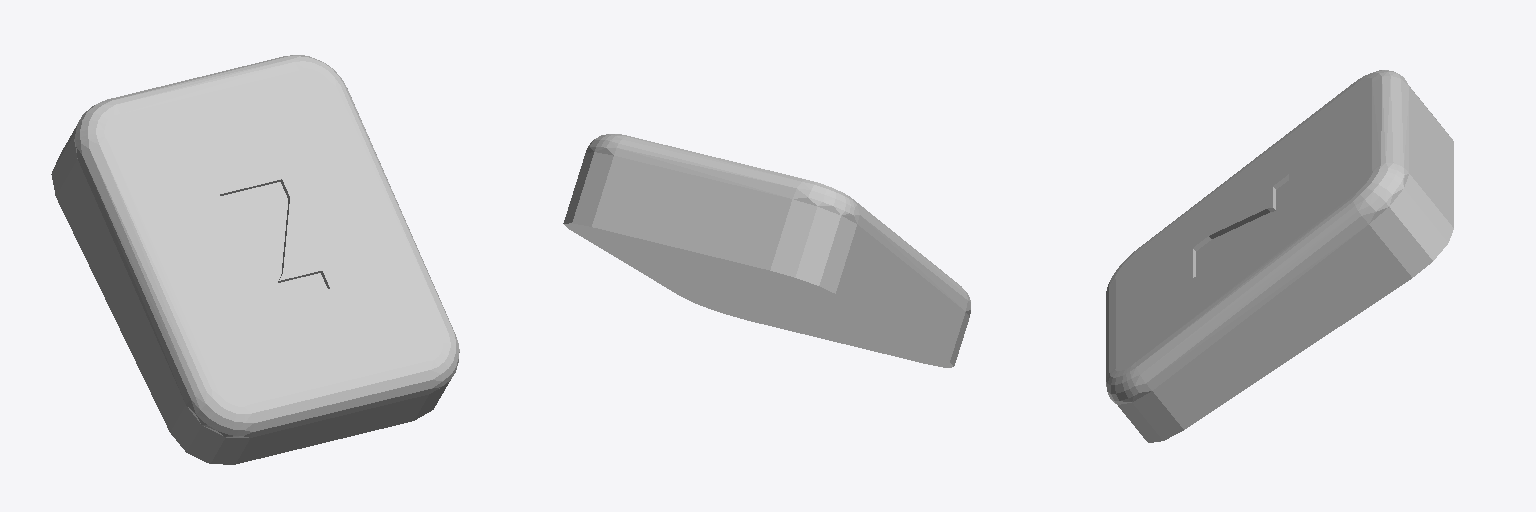
The model's file is Shoulder-Right-Trigger.obj.
3 views of the same model, side by side, from view 1: azimuth 30°, elevation 25°; view 2: azimuth 150°, elevation 25°; view 3: azimuth 270°, elevation 25° (orthographic).
Visible parts, largest first — view 1: Z; view 2: Z; view 3: Z.
Boxes of the visible parts, x1=… form: Z: x1=51, y1=55, x2=459, y2=464; Z: x1=563, y1=134, x2=970, y2=367; Z: x1=1106, y1=70, x2=1453, y2=442.
Bounding box in the file's own units: 12 × 11.7 × 13.52.